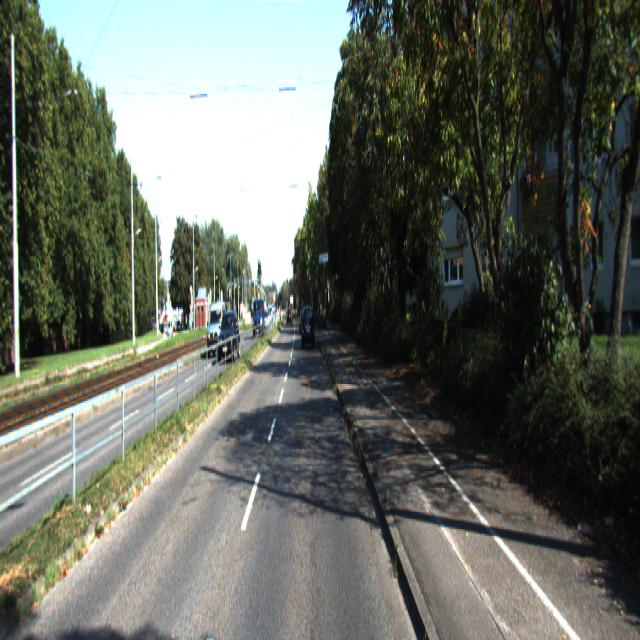Car: (218, 311, 240, 365), (207, 300, 227, 357), (302, 306, 316, 351), (252, 297, 265, 338)
